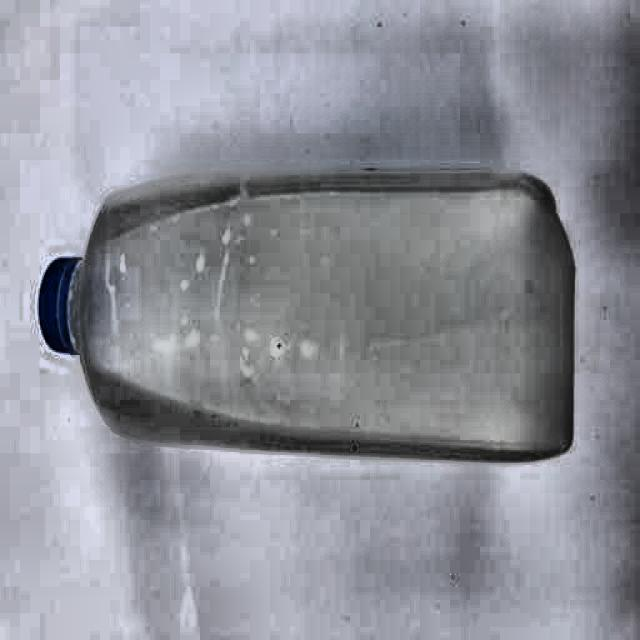plastic: (31, 176, 574, 463)
